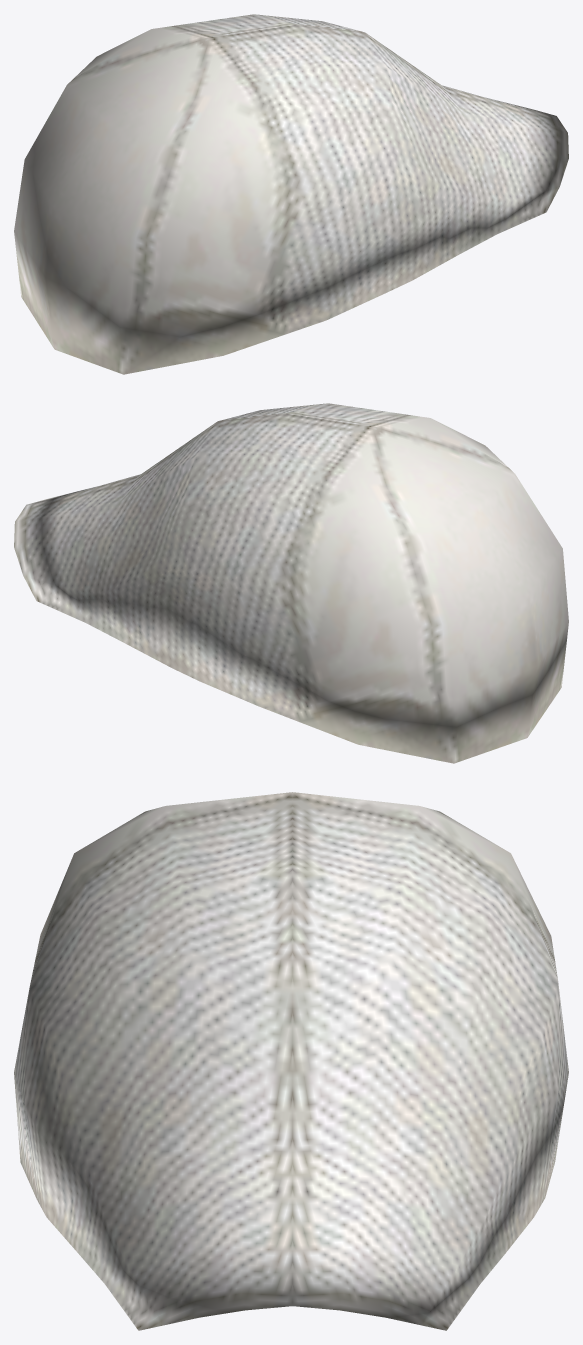
Rendered from hat_0400021.FBX.
The picture shows the model from 3 angles, top to bottom: view 1: azimuth 30°, elevation 25°; view 2: azimuth 150°, elevation 25°; view 3: azimuth 270°, elevation 25°; orthographic projection. The views are drawn at different scales.
Visible parts, largest first — view 1: hat_0400021; view 2: hat_0400021; view 3: hat_0400021.
Part boxes in pixels (x1,y1,x2,y2): hat_0400021: (14, 14, 568, 374); hat_0400021: (14, 403, 568, 763); hat_0400021: (14, 792, 568, 1330).
Bounding box in the file's own units: 37.94 × 19.4 × 23.08.
